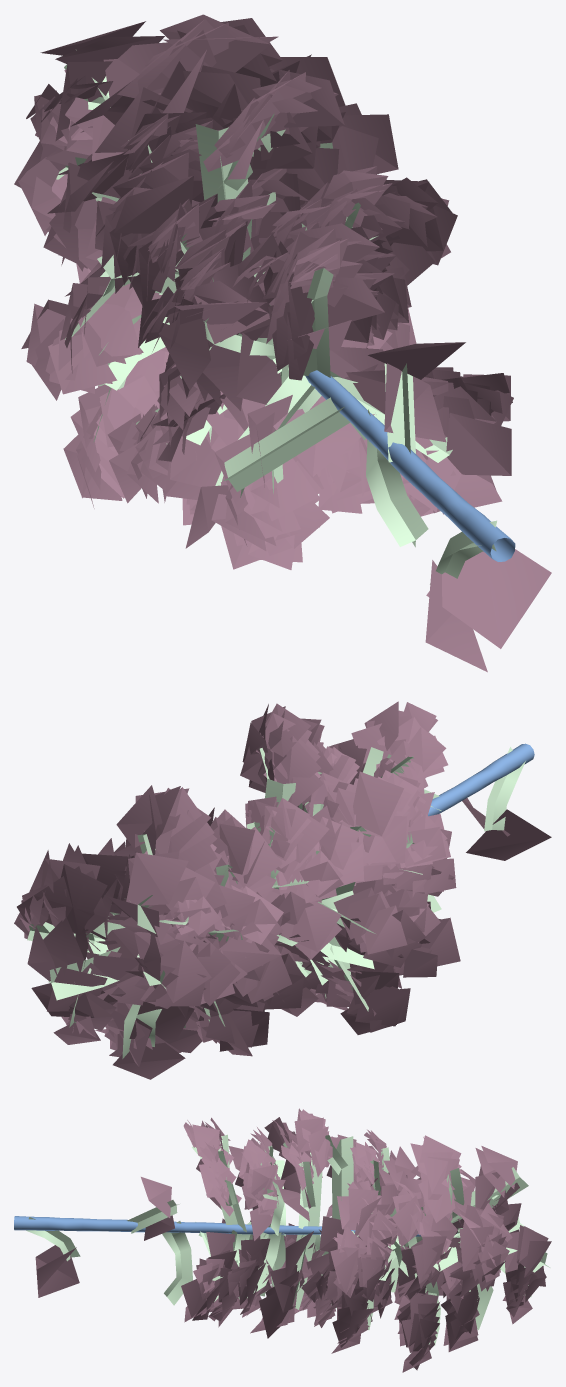
Rendered from Tree_0017.FBX.
3 renders of one model, top to bottom at view 1: azimuth 30°, elevation 25°; view 2: azimuth 150°, elevation 25°; view 3: azimuth 270°, elevation 25°, orthographic. The views are drawn at different scales.
Visible parts, largest first — view 1: Tree_0017_LOD0; view 2: Tree_0017_LOD0; view 3: Tree_0017_LOD0.
Part boxes in pixels (x1=…): Tree_0017_LOD0: x1=14, y1=14, x2=551, y2=672; Tree_0017_LOD0: x1=14, y1=701, x2=551, y2=1079; Tree_0017_LOD0: x1=14, y1=1108, x2=551, y2=1372.
Bounding box in the file's own units: 217 × 432 × 206.
